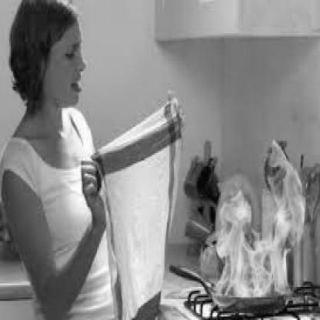Fire: (206, 140, 310, 298)
